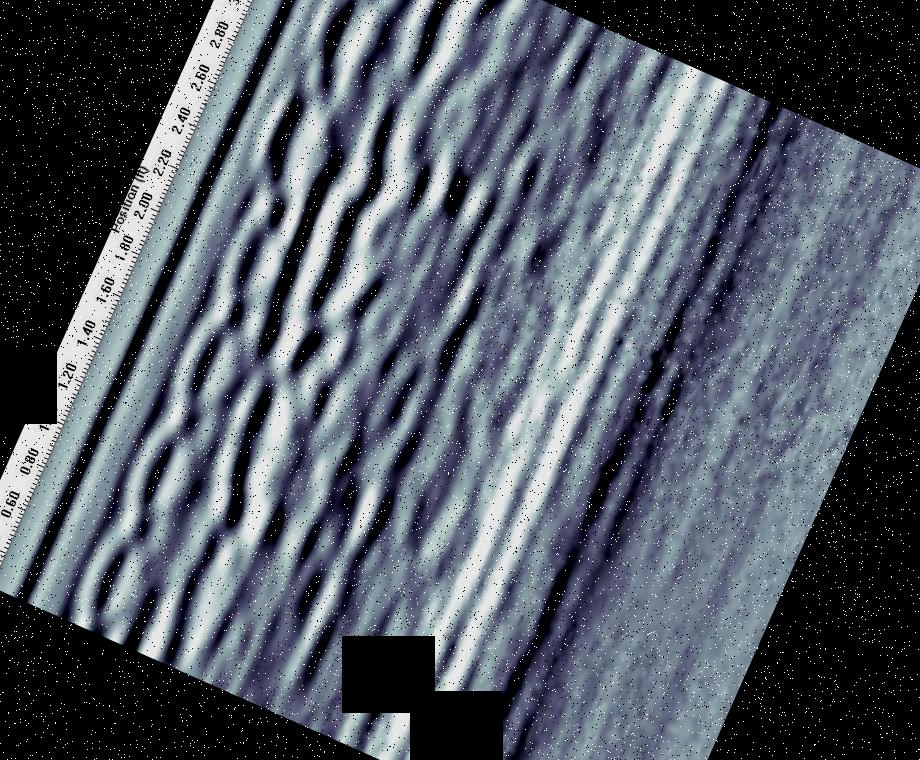Hyperbola: (228, 60, 397, 227), (138, 291, 281, 440), (188, 188, 338, 328), (54, 512, 184, 651), (89, 408, 227, 538), (293, 0, 437, 101)
